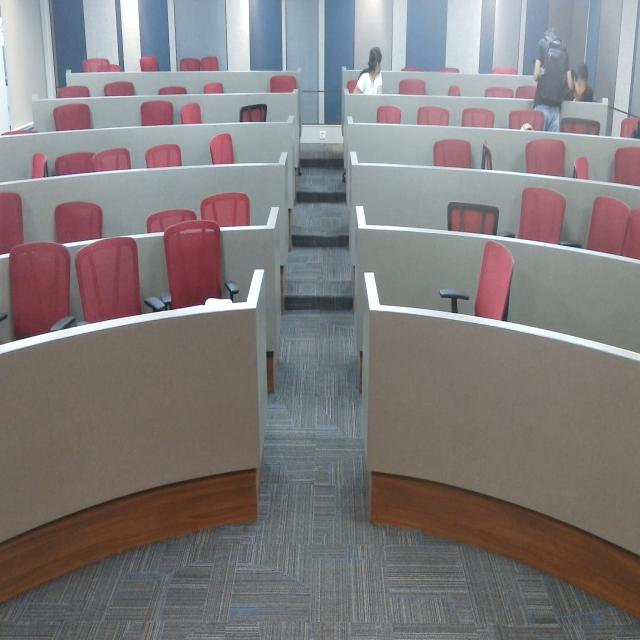cheating: (349, 36, 389, 106)
